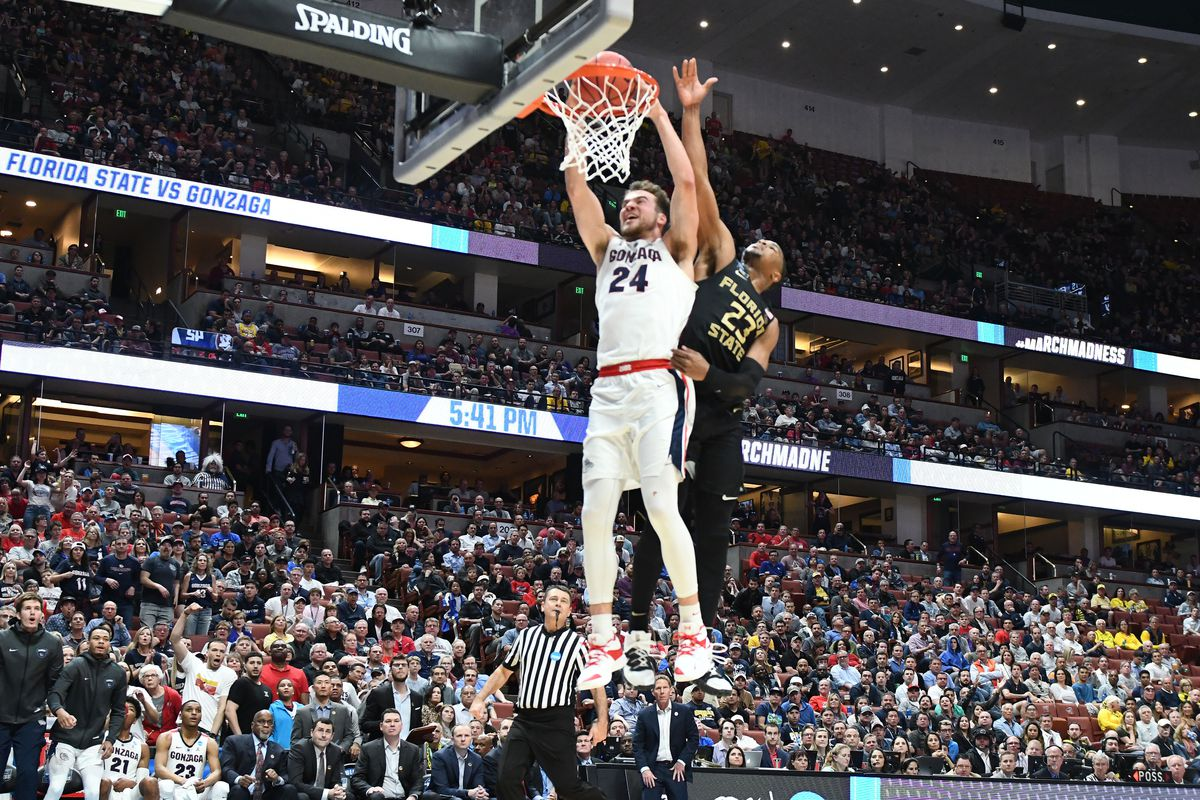basket: (526, 66, 668, 196)
block: (668, 50, 802, 665)
